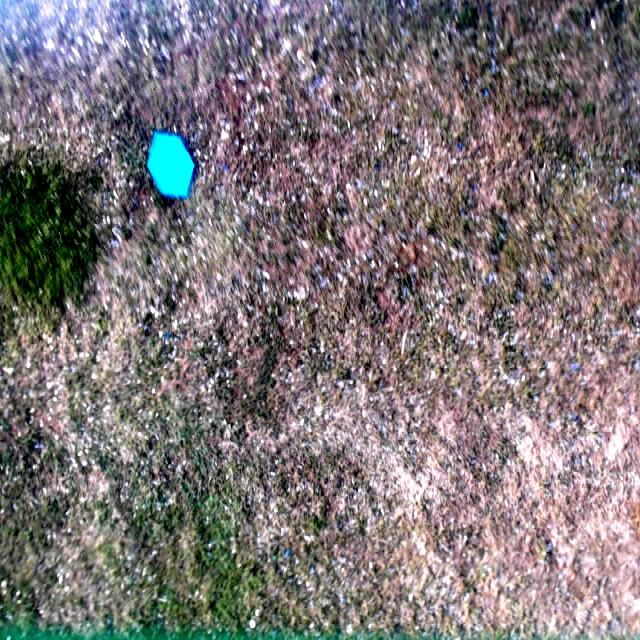blue_hexagon: (146, 126, 196, 200)
